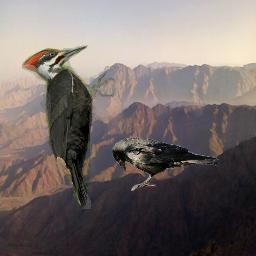Crow: (112, 137, 220, 191)
Woodpecker: (22, 45, 116, 209)
